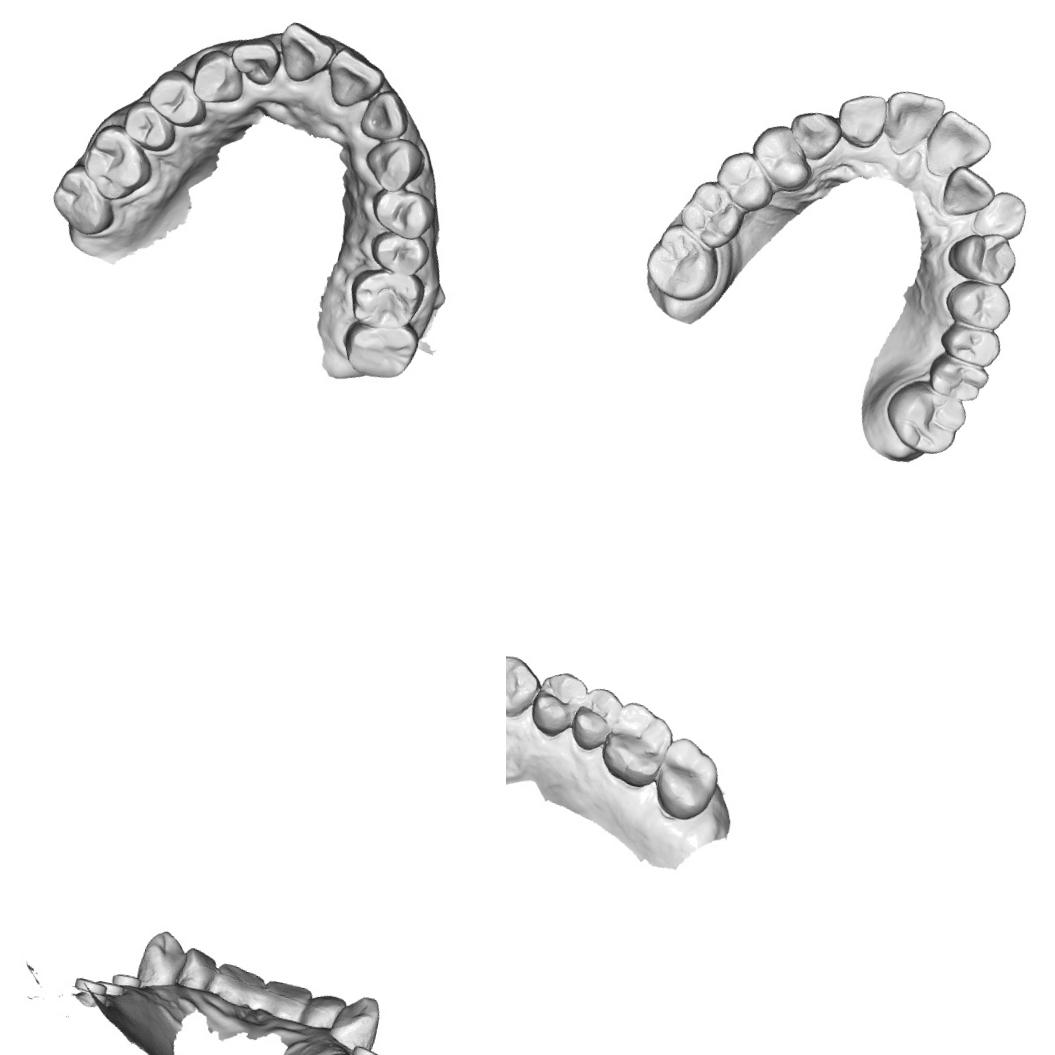canine: (358, 129, 428, 197), (782, 101, 848, 166), (186, 44, 250, 109), (968, 183, 1032, 245), (135, 924, 192, 986), (328, 989, 384, 1052), (506, 650, 545, 722)
implant: (68, 972, 109, 996), (109, 970, 142, 992), (94, 978, 127, 1000), (347, 1042, 382, 1055)
incisor: (919, 105, 998, 188), (876, 84, 948, 162), (320, 44, 390, 114), (272, 18, 338, 88), (936, 160, 1000, 223), (831, 87, 890, 151), (356, 85, 414, 147), (206, 958, 269, 1013), (226, 32, 286, 88), (256, 976, 316, 1024), (298, 988, 348, 1035), (177, 944, 220, 994)
molar: (876, 371, 973, 461), (594, 696, 678, 792), (640, 217, 727, 307), (75, 118, 160, 206), (648, 732, 725, 825), (670, 172, 751, 254), (44, 159, 124, 241), (342, 262, 428, 334), (338, 314, 421, 384), (924, 351, 994, 406), (936, 317, 1005, 370)
premolar: (742, 118, 821, 196), (708, 144, 782, 218), (942, 222, 1022, 290), (526, 665, 592, 742), (143, 64, 214, 130), (364, 182, 441, 242), (940, 273, 1016, 333), (565, 682, 626, 756), (364, 224, 435, 280), (117, 96, 181, 154)
